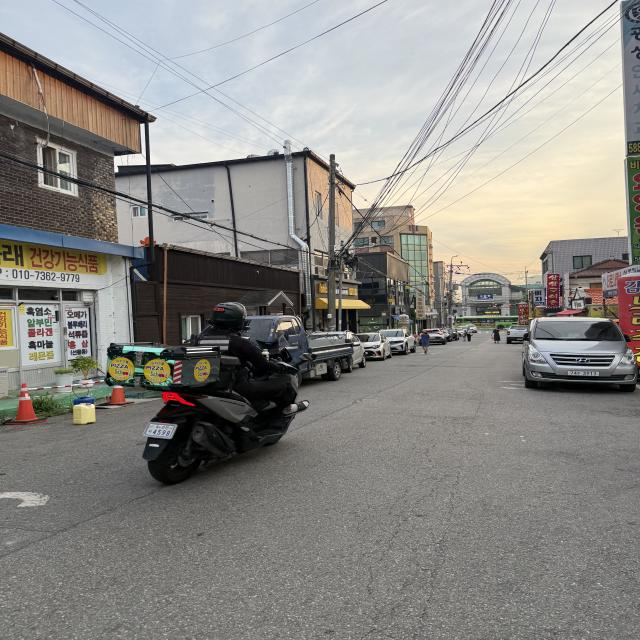car: (179, 311, 372, 387), (521, 316, 639, 391), (339, 330, 399, 364), (378, 328, 417, 355), (502, 322, 534, 348), (416, 328, 454, 346)
motorcycle: (103, 295, 326, 482)
